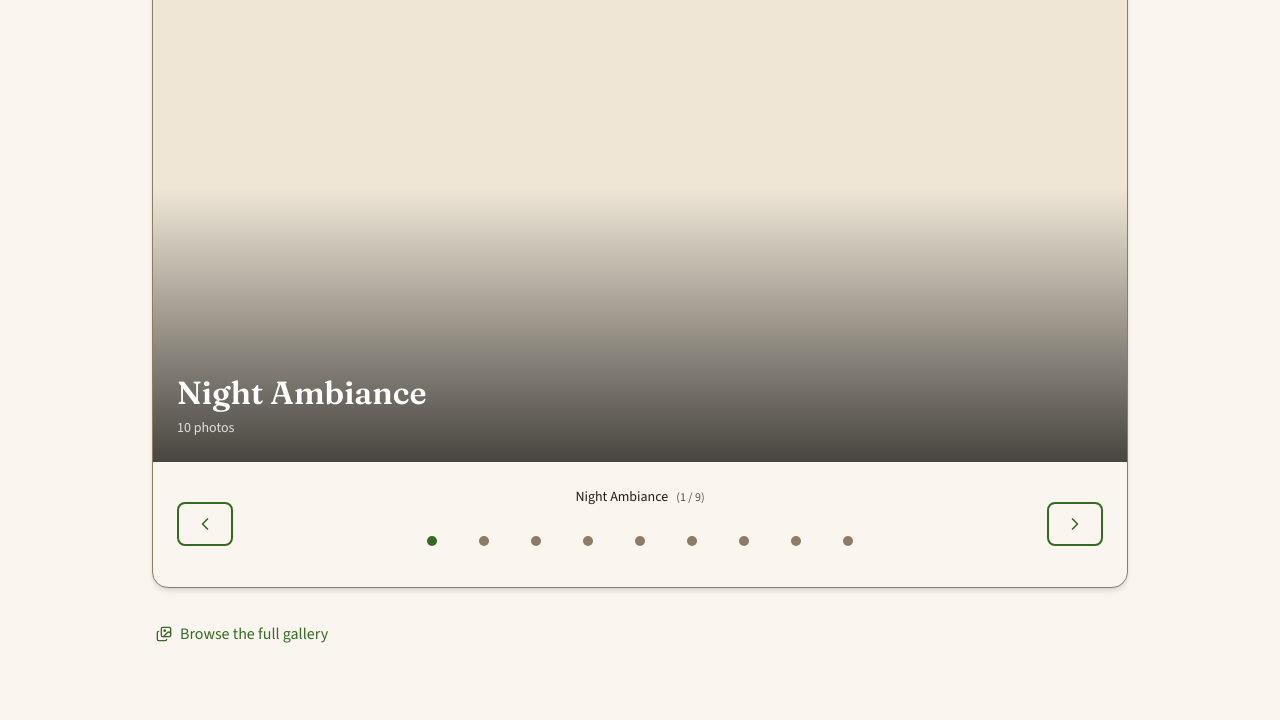
Scenario: VirtualTour › clicking a step dot navigates to that category
The width and height of the screenshot is (1280, 720).
(page scrolled)
What coordinates should you click on to do the following:
click the tab named "go to exteriors"
I would click on:
 (484, 541)
Its box is [462,519,506,563].
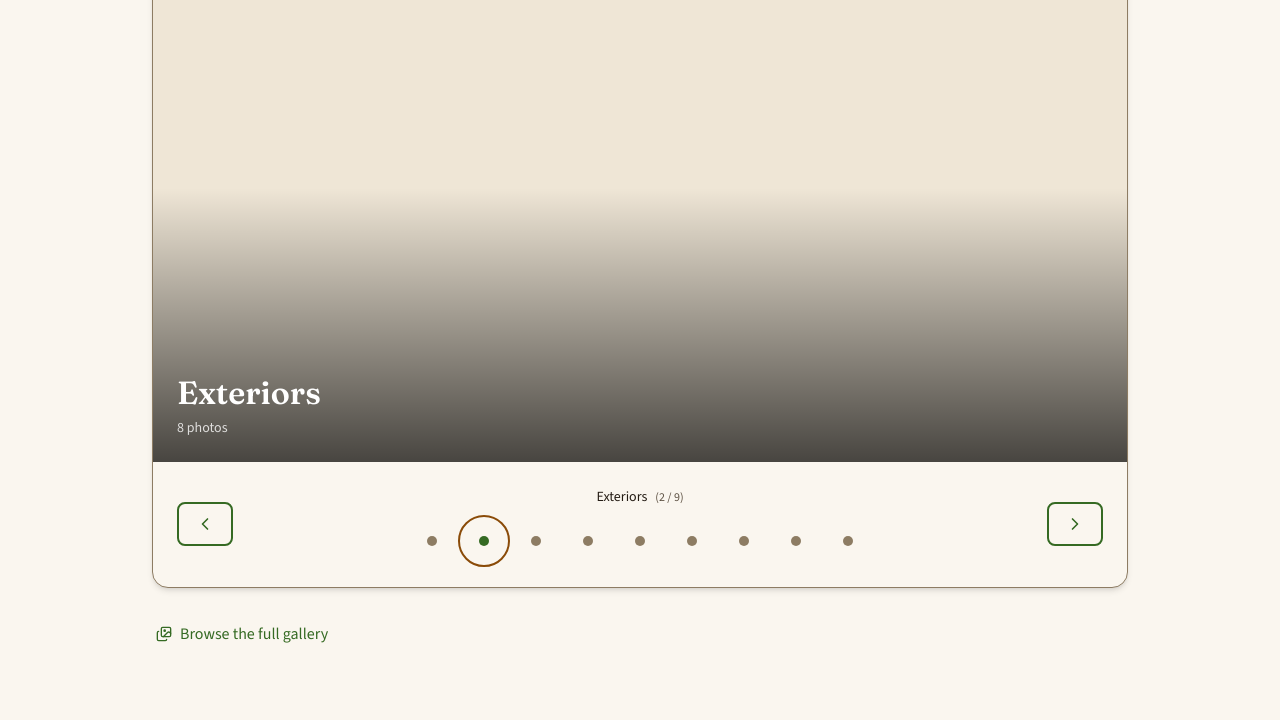
Now the text "Exteriors" is shown, box [177,373,321,412]
